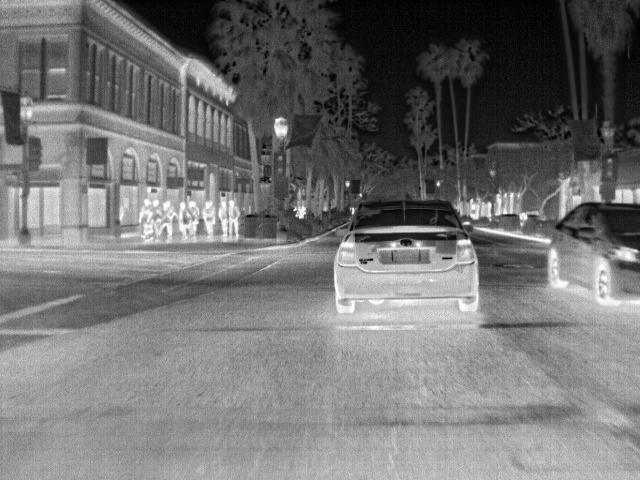car: (333, 196, 480, 310), (544, 200, 640, 301)
person: (139, 195, 156, 241), (178, 199, 195, 240), (160, 199, 175, 242), (218, 195, 231, 238), (204, 197, 216, 238), (230, 199, 242, 239), (151, 197, 163, 222)
